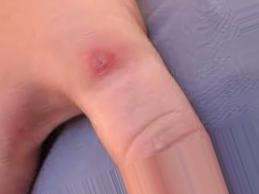Spider: (72, 34, 137, 87)
